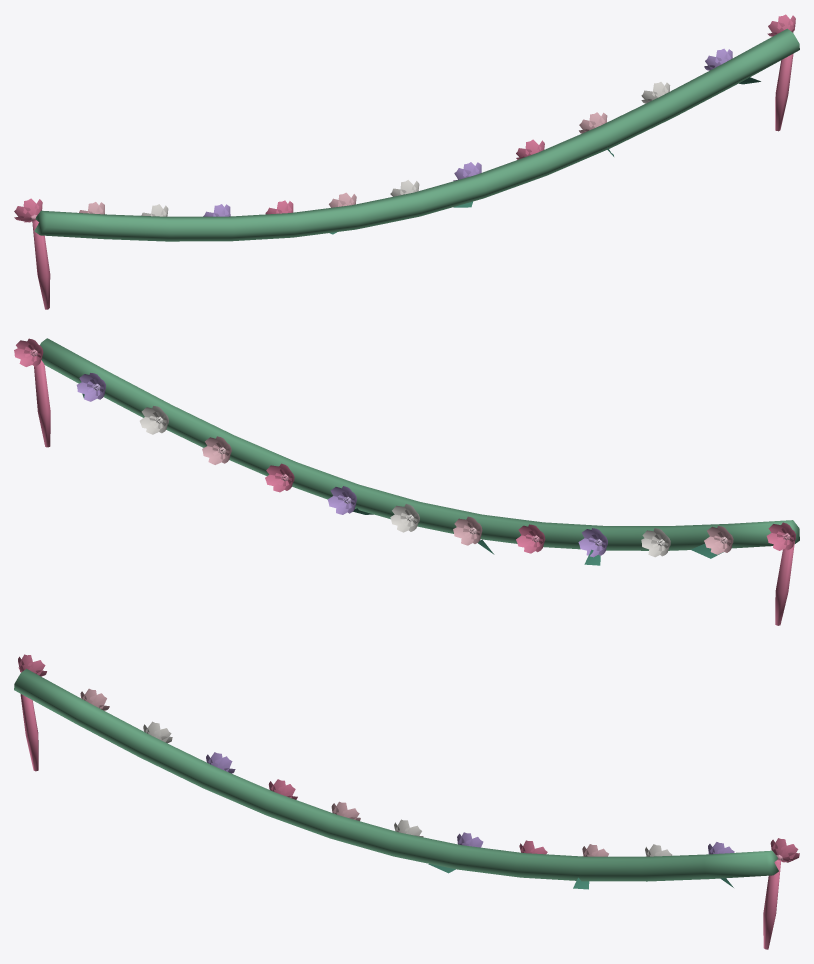
The model's file is flower_garland.glb.
3 views of the same model, one above another, from view 1: azimuth 30°, elevation 25°; view 2: azimuth 150°, elevation 25°; view 3: azimuth 330°, elevation 25° (orthographic).
Visible parts, largest first — view 1: flower_garland; view 2: flower_garland; view 3: flower_garland.
Boxes of the visible parts, x1,y1,x2,y2 form: flower_garland: (14,14,799,309); flower_garland: (14,338,799,625); flower_garland: (14,654,799,949).
Size of what is drawn, in the model's own units: 3 by 0.4 by 0.2.
